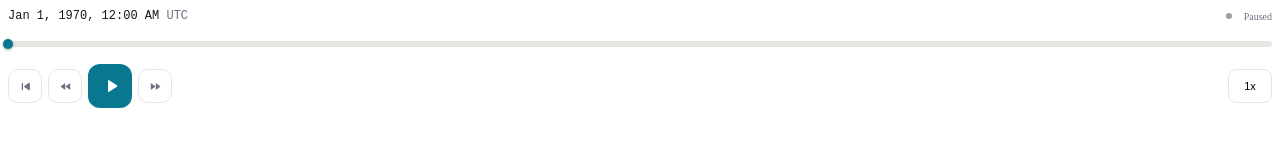
it: PlaybackControls — compact layout › closes the speed popover on Escape
Click the button named "Playback speed": [1250, 86] box top-left (1228, 69), bottom-right (1272, 103)
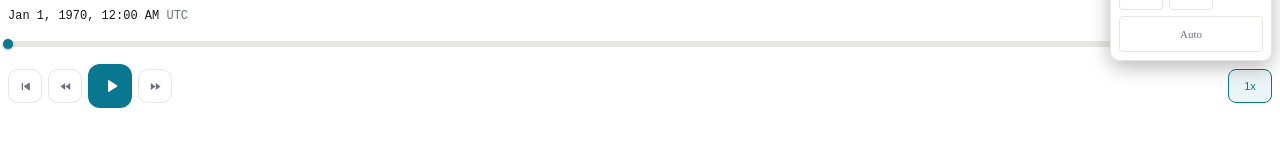
Check: the button named "Playback speed" is expanded, box top-left (1228, 69), bottom-right (1272, 103)
Press Escape
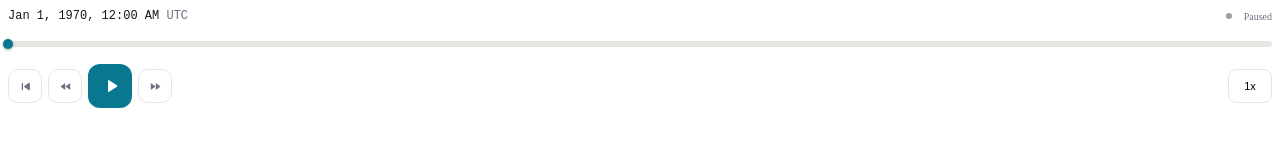
Check: the button named "Playback speed" is collapsed, box top-left (1228, 69), bottom-right (1272, 103)
